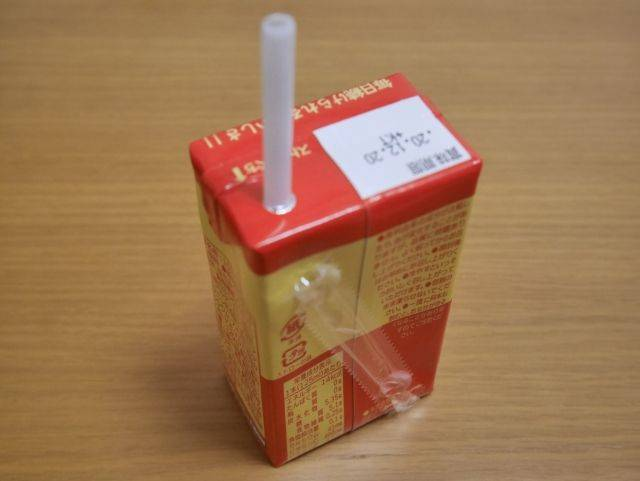鋁箔包: (185, 66, 486, 468)
